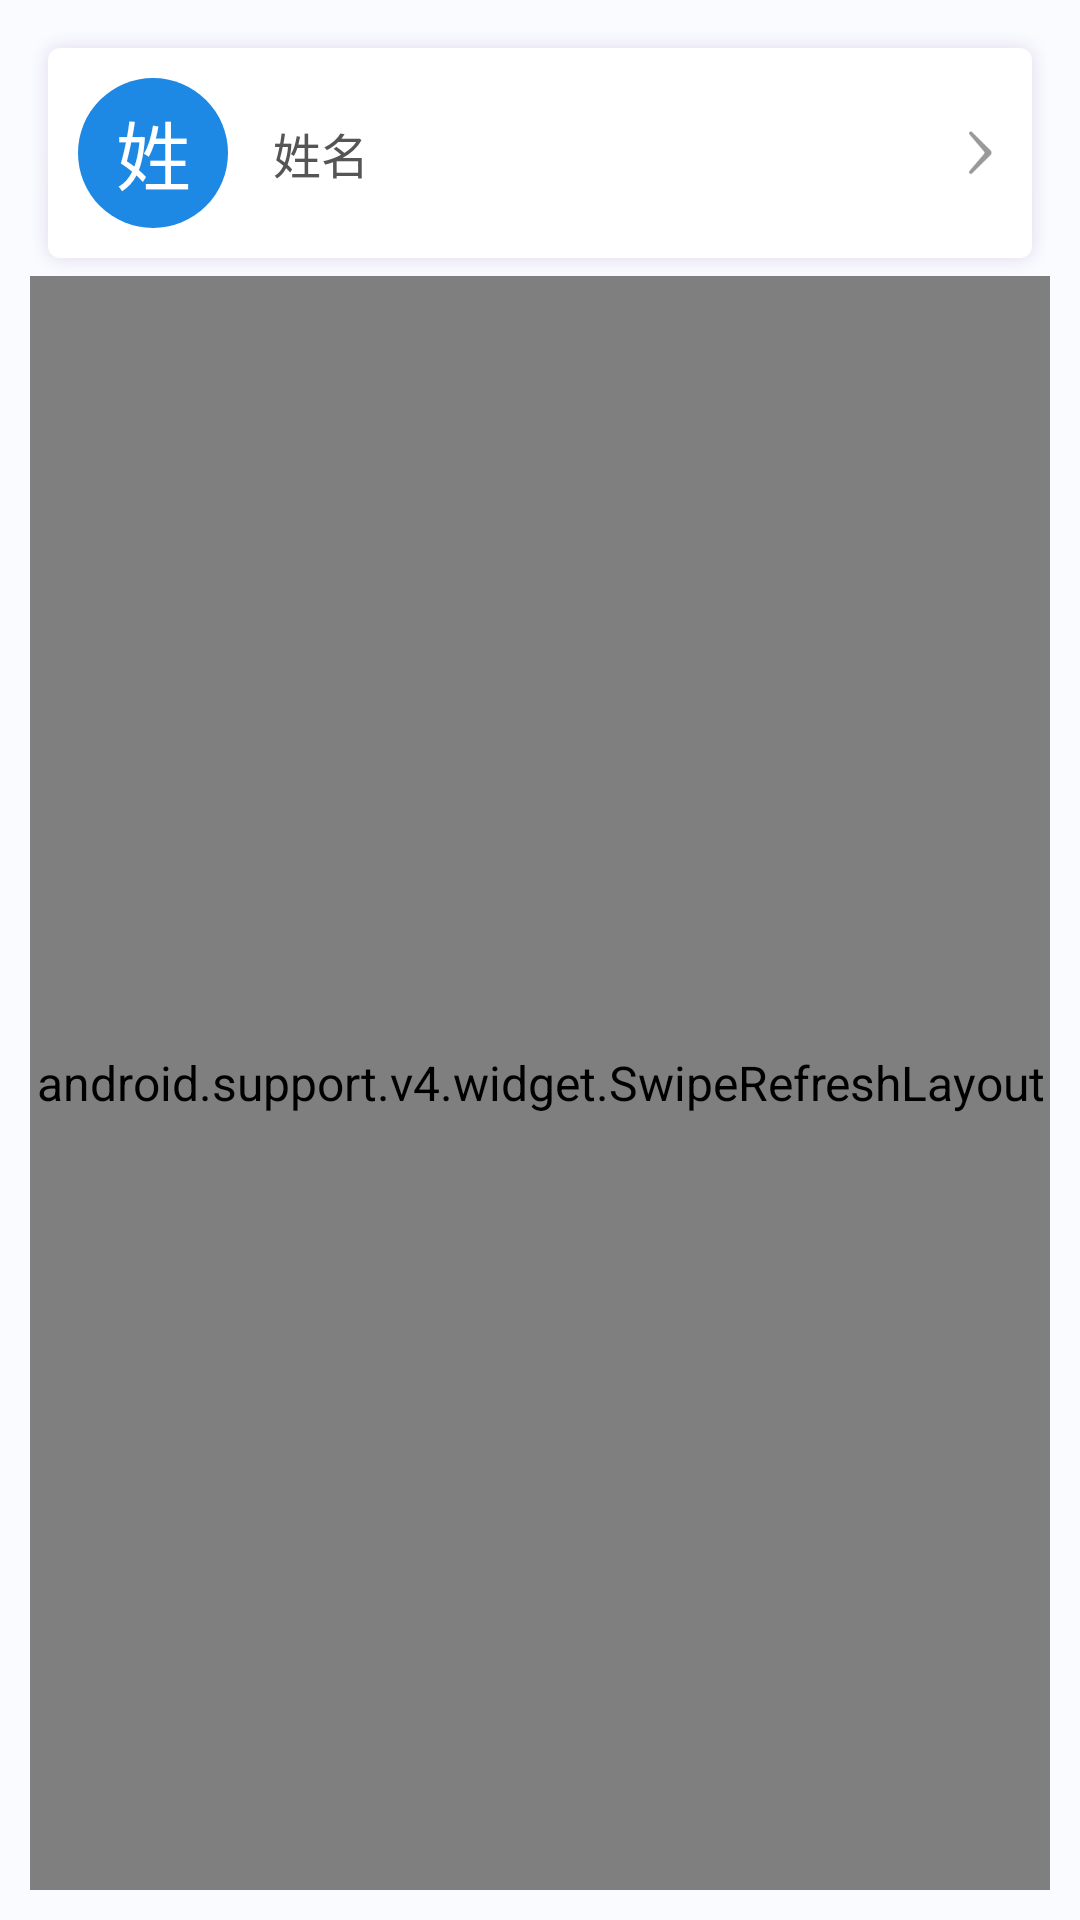

Screen size 1080 x 1920. Icon name, then its center in pixels as (x,y):
right: (980,152)
